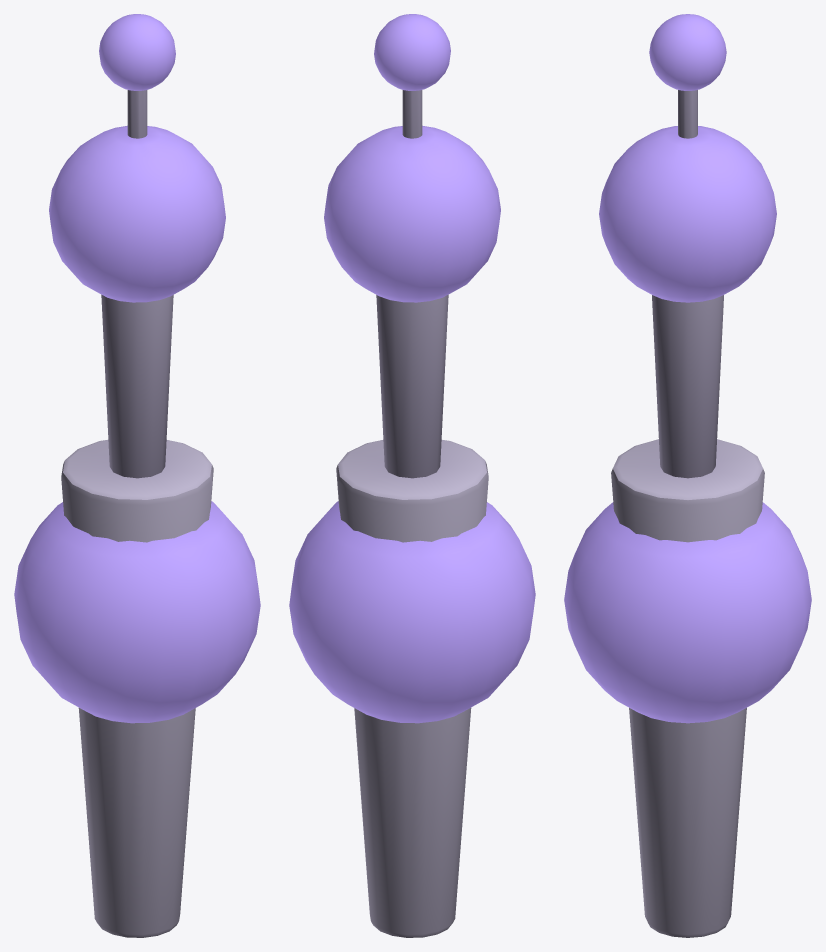
The picture shows the model from 3 angles, left to right: view 1: azimuth 30°, elevation 25°; view 2: azimuth 150°, elevation 25°; view 3: azimuth 270°, elevation 25°; orthographic projection.
Visible parts, largest first — view 1: landmark_427ef898; view 2: landmark_427ef898; view 3: landmark_427ef898.
Part boxes in pixels (<box>): landmark_427ef898: <box>14,14,260,937</box>; landmark_427ef898: <box>289,14,535,937</box>; landmark_427ef898: <box>564,14,811,937</box>.
Size of the model in its own units: 3.2 by 12.9 by 3.2.
